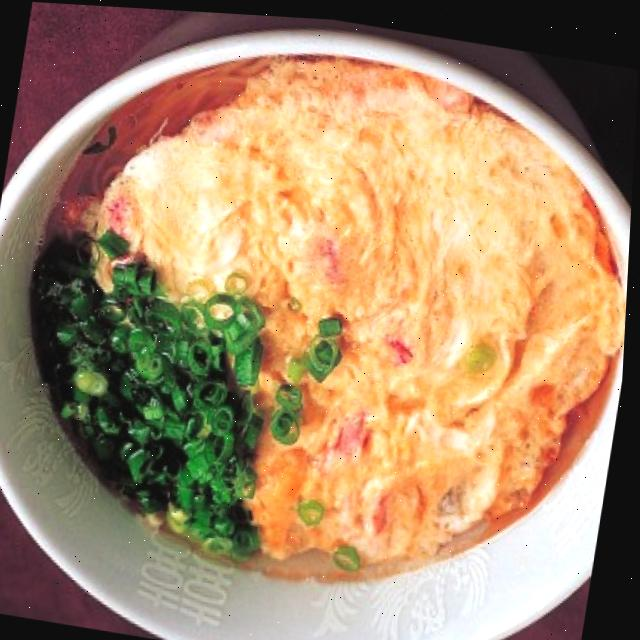面条主食: (3, 9, 640, 611)
